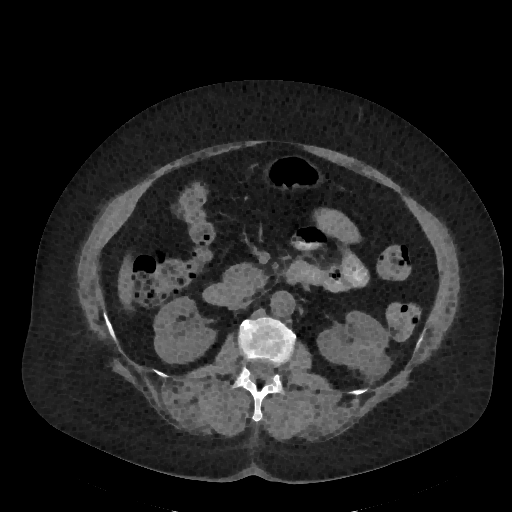Lesion: (346, 349, 394, 386)
